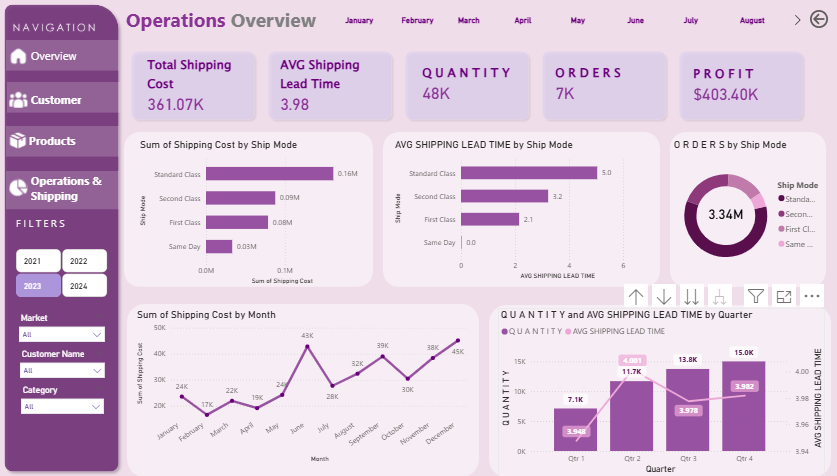

This screenshot's page, from the dashboard's own definition file:
{"tool":"powerbi","page":{"name":"Operations & Shipping","canvas":[1400,817],"ordinal":3},"visuals":[{"type":"shape","box":[213.3,80,220,128.3],"z":0},{"type":"shape","box":[441.7,80,220,128.3],"z":1000},{"type":"shape","box":[670,80,220,128.3],"z":2000},{"type":"shape","box":[898.3,80,220,128.3],"z":3000},{"type":"shape","box":[1126.7,80,220,128.3],"z":4000},{"type":"shape","box":[213.3,508.3,586.7,288.3],"z":5000},{"type":"shape","box":[816.7,510,570,286.7],"z":6000},{"type":"shape","box":[640,221.7,461.7,258.3],"z":7000},{"type":"shape","box":[208.3,221.7,415,258.3],"z":8000},{"type":"shape","box":[1118.3,221.7,260,258.3],"z":9000},{"type":"donutChart","fields":{"Category":["Dim ship mode.Ship Mode"],"Y":["Measures (2).O R D E R S"]},"box":[1120,231.7,256.7,240],"z":10000},{"type":"shape","box":[0,0,208.3,796.7],"z":11000},{"type":"shape","box":[11.2,68.8,188.8,51.2],"z":12000},{"type":"textbox","box":[206.7,6.7,345,55],"z":13000},{"type":"image","box":[16.1,35.7,150.9,30],"z":14000},{"type":"advancedSlicerVisual","fields":{"Values":["DimDate.Year"]},"box":[22.5,391.2,162.5,131.2],"z":15000},{"type":"textbox","box":[22.5,358.8,102.5,32.5],"z":16000},{"type":"actionButton","box":[13.8,67.5,163.8,53.8],"z":17000},{"type":"shape","box":[12.5,138.8,188.8,51.2],"z":18000},{"type":"shape","box":[11.2,211.2,188.8,51.2],"z":19000},{"type":"shape","box":[11.2,286.2,188.8,63.8],"z":20000},{"type":"actionButton","box":[13.8,139.3,165.9,55.3],"z":21000},{"type":"actionButton","box":[9.2,209.1,164.8,54.1],"z":22000},{"type":"actionButton","box":[12.5,277.5,165,72.5],"z":23000},{"type":"slicer","fields":{"Values":["Customers.customer Name"]},"box":[24.6,577.5,161.2,60],"z":24000},{"type":"slicer","fields":{"Values":["DimMarkets.Market"]},"box":[23.3,517.5,162.5,60],"z":25000},{"type":"slicer","fields":{"Values":["Products.Category"]},"box":[25.8,637.5,157.5,56.2],"z":26000},{"type":"cardVisual","fields":{"Data":["Measures (2).Total Profit"]},"box":[1140,88.3,193.3,106.7],"z":32000},{"type":"cardVisual","fields":{"Data":["Measures (2).O R D E R S"]},"box":[910,88.3,195,103.3],"z":33000},{"type":"cardVisual","fields":{"Data":["Measures (2).Q U A N T I T Y"]},"box":[688.3,88.3,183.3,103.3],"z":34000},{"type":"cardVisual","fields":{"Data":["Dim Order Priority.AVG SHIPPING LEAD TIME"]},"box":[451.7,81.7,198.3,121.7],"z":35000},{"type":"actionButton","box":[1346.7,13.3,53.3,40],"z":36000},{"type":"clusteredBarChart","fields":{"Category":["Dim ship mode.Ship Mode"],"Y":["Sum(Fact_Orders.Shipping Cost)"]},"box":[230,231.7,388.3,248.3],"z":37000},{"type":"lineChart","fields":{"Category":["Fact_Orders.Ship Date.Variation.Date Hierarchy.Year","Fact_Orders.Ship Date.Variation.Date Hierarchy.Quarter","Fact_Orders.Ship Date.Variation.Date Hierarchy.Month"],"Y":["Sum(Fact_Orders.Shipping Cost)"]},"box":[225,515,561.7,261.7],"z":38000},{"type":"cardVisual","fields":{"Data":["Sum(Fact_Orders.Shipping Cost)"]},"box":[230,81.7,186.7,121.7],"z":39000},{"type":"cardVisual","fields":{"Data":["Measures (2).S A L E S"]},"box":[1164.3,330,107.1,55.7],"z":40000},{"type":"barChart","fields":{"Category":["Dim ship mode.Ship Mode"],"Y":["Dim Order Priority.AVG SHIPPING LEAD TIME"]},"box":[655,231.7,446.7,240],"z":41000},{"type":"lineStackedColumnComboChart","fields":{"Category":["DimDate.Date.Variation.Date Hierarchy.Year","DimDate.Date.Variation.Date Hierarchy.Quarter","DimDate.Date.Variation.Date Hierarchy.Month","DimDate.Date.Variation.Date Hierarchy.Day"],"Y":["Measures (2).Q U A N T I T Y"],"Y2":["Dim Order Priority.AVG SHIPPING LEAD TIME"]},"box":[831.7,515,545,281.7],"z":42000},{"type":"advancedSlicerVisual","fields":{"Values":["DimDate.Month"]},"box":[545,13.3,801.7,43.3],"z":43000}]}

Visuals, with their boxes on the page's 1400x817 design canvas (x1, y1, x2, y2). These are canvas units, not pixel positions in the 837x476 screenshot, which may show the page scaled, cropped or inside an application window:
shape: locate(213, 80, 433, 208)
shape: locate(442, 80, 662, 208)
shape: locate(670, 80, 890, 208)
shape: locate(898, 80, 1118, 208)
shape: locate(1127, 80, 1347, 208)
shape: locate(213, 508, 800, 797)
shape: locate(817, 510, 1387, 797)
shape: locate(640, 222, 1102, 480)
shape: locate(208, 222, 623, 480)
shape: locate(1118, 222, 1378, 480)
donutChart - Dim ship mode.Ship Mode x Measures (2).O R D E R S: locate(1120, 232, 1377, 472)
shape: locate(0, 0, 208, 797)
shape: locate(11, 69, 200, 120)
textbox: locate(207, 7, 552, 62)
image: locate(16, 36, 167, 66)
advancedSlicerVisual - DimDate.Year: locate(22, 391, 185, 522)
textbox: locate(22, 359, 125, 391)
actionButton: locate(14, 68, 178, 121)
shape: locate(12, 139, 201, 190)
shape: locate(11, 211, 200, 262)
shape: locate(11, 286, 200, 350)
actionButton: locate(14, 139, 180, 195)
actionButton: locate(9, 209, 174, 263)
actionButton: locate(12, 278, 178, 350)
slicer - Customers.customer Name: locate(25, 578, 186, 638)
slicer - DimMarkets.Market: locate(23, 518, 186, 578)
slicer - Products.Category: locate(26, 638, 183, 694)
cardVisual - Measures (2).Total Profit: locate(1140, 88, 1333, 195)
cardVisual - Measures (2).O R D E R S: locate(910, 88, 1105, 192)
cardVisual - Measures (2).Q U A N T I T Y: locate(688, 88, 872, 192)
cardVisual - Dim Order Priority.AVG SHIPPING LEAD TIME: locate(452, 82, 650, 203)
actionButton: locate(1347, 13, 1400, 53)
clusteredBarChart - Dim ship mode.Ship Mode x Sum(Fact_Orders.Shipping Cost): locate(230, 232, 618, 480)
lineChart - Fact_Orders.Ship Date.Variation.Date Hierarchy.Year x Fact_Orders.Ship Date.Variation.Date Hierarchy.Quarter: locate(225, 515, 787, 777)
cardVisual - Sum(Fact_Orders.Shipping Cost): locate(230, 82, 417, 203)
cardVisual - Measures (2).S A L E S: locate(1164, 330, 1271, 386)
barChart - Dim ship mode.Ship Mode x Dim Order Priority.AVG SHIPPING LEAD TIME: locate(655, 232, 1102, 472)
lineStackedColumnComboChart - DimDate.Date.Variation.Date Hierarchy.Year x DimDate.Date.Variation.Date Hierarchy.Quarter: locate(832, 515, 1377, 797)
advancedSlicerVisual - DimDate.Month: locate(545, 13, 1347, 57)
